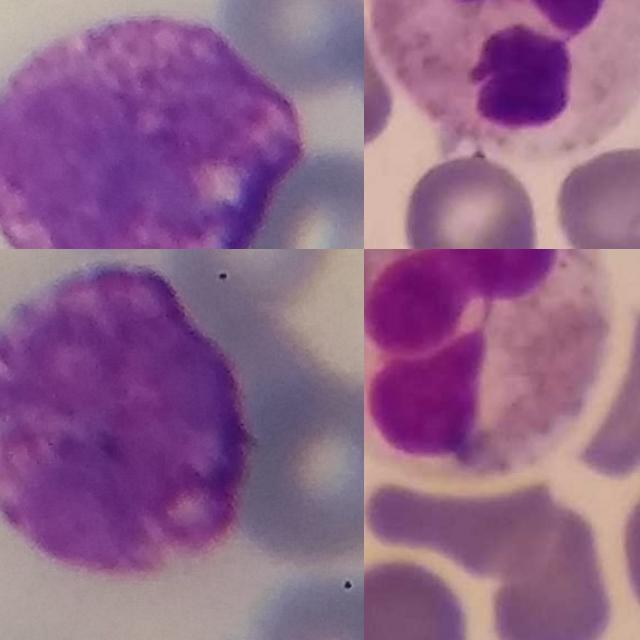Basophil: (0, 256, 252, 578), (0, 14, 300, 249)
Eosinophil: (364, 249, 616, 477)
Neutrophil: (368, 0, 640, 158)
